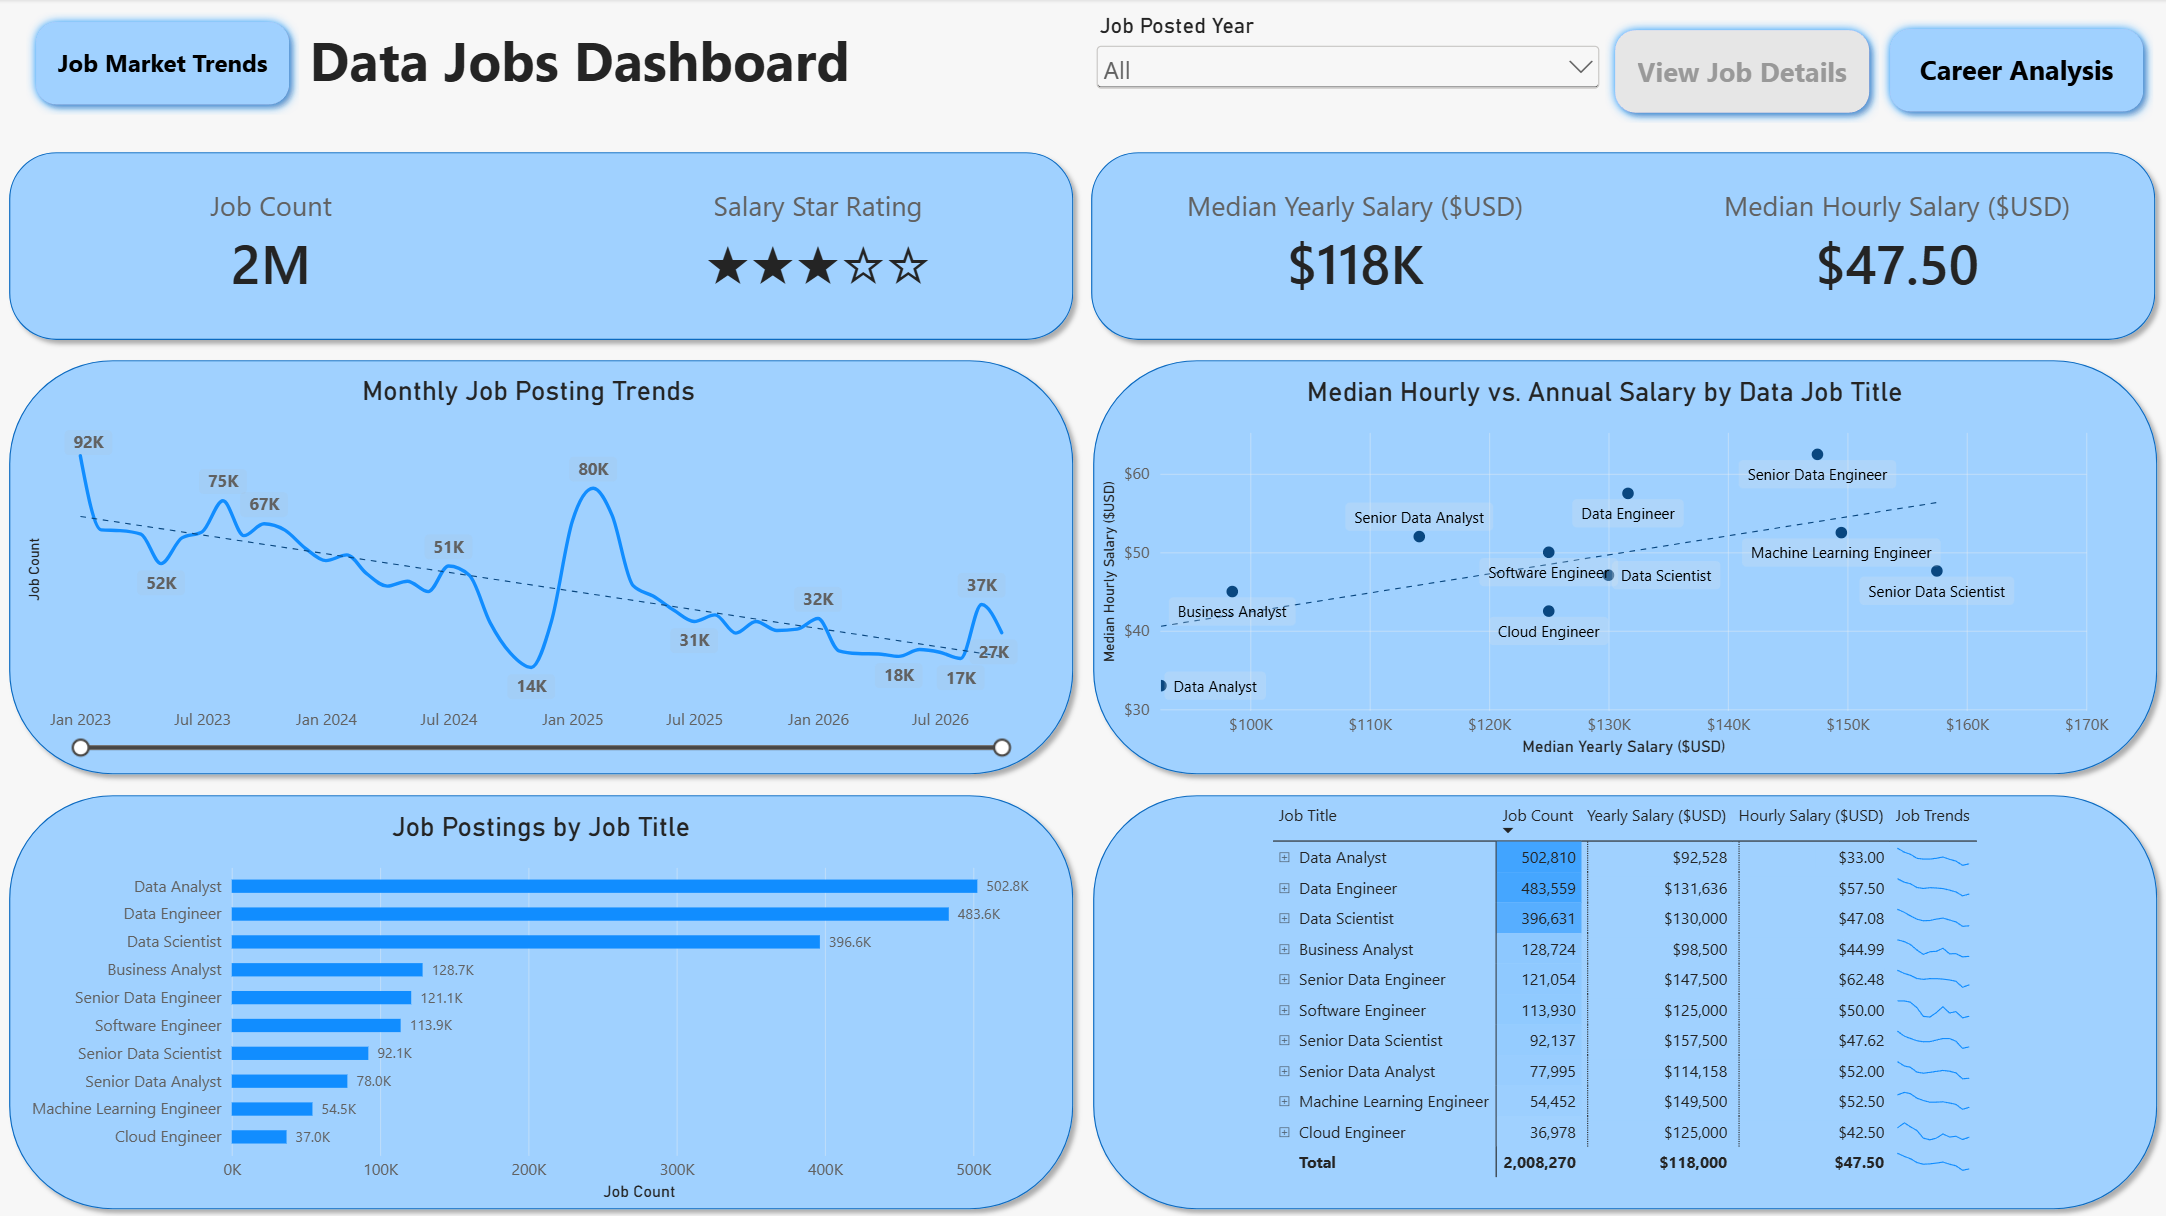

The dashboard page shown, as its layout file describes it:
{"tool":"powerbi","page":{"name":"Data Jobs Dashboard","canvas":[1920,1080],"ordinal":0},"visuals":[{"type":"group","id":"g1","title":"Background","box":[0,126.4,1920,953.5],"z":0},{"type":"shape","box":[0,126.4,960,184.2],"z":0,"group":"g1"},{"type":"textbox","box":[125.1,20.6,778.4,87.4],"z":1000},{"type":"shape","box":[958,126.4,960,184.2],"z":1000,"group":"g1"},{"type":"slicer","fields":{"Values":["job_postings_flat.job_title_short"]},"box":[966.7,12.1,455.4,110.5],"z":2000},{"type":"shape","box":[0,310.6,960,384.6],"z":2000,"group":"g1"},{"type":"cardVisual","fields":{"Data":["Median(job_postings_flat.salary_year_avg)"]},"box":[960.6,122.6,480,187.5],"z":3000},{"type":"shape","box":[960,310.6,960,384.6],"z":3000,"group":"g1"},{"type":"cardVisual","fields":{"Data":["Median(job_postings_flat.salary_hour_avg)"]},"box":[1440.6,122.6,480,187.5],"z":4000},{"type":"shape","box":[0,695.2,960,384.6],"z":4000,"group":"g1"},{"type":"cardVisual","fields":{"Data":["job_postings_flat.Salary Star Rating"]},"box":[485.5,122.6,480,187.5],"z":5000},{"type":"shape","box":[960,695.2,960,384.6],"z":5000,"group":"g1"},{"type":"cardVisual","fields":{"Data":["CountNonNull(job_postings_flat.job_title_short)"]},"box":[0.6,122.6,480,187.5],"z":6000},{"type":"lineChart","title":"Monthly Data Job Postings in 2024","fields":{"Category":["job_postings_flat.job_posted_date.Variation.Date Hierarchy.Year","job_postings_flat.job_posted_date.Variation.Date Hierarchy.Quarter","job_postings_flat.job_posted_date.Variation.Date Hierarchy.Month","job_postings_flat.job_posted_date.Variation.Date Hierarchy.Day"],"Y":["CountNonNull(job_postings_flat.job_title_short)"]},"box":[24,319.3,942.6,366.1],"z":7000},{"type":"barChart","title":"Job Postings by Job Title","fields":{"Category":["job_postings_flat.job_title_short"],"Y":["CountNonNull(job_postings_flat.job_title_short)"]},"box":[0,695.2,929.5,384.7],"z":8000},{"type":"scatterChart","title":"Median Hourly vs. Annual Salary by Data Job Title","fields":{"Series":["job_postings_flat.job_title_short"],"X":["Median(job_postings_flat.salary_year_avg)"],"Y":["Median(job_postings_flat.salary_hour_avg)"]},"box":[960,319.3,924,366.1],"z":9000},{"type":"pivotTable","fields":{"Rows":["job_postings_flat.job_title_short","job_postings_flat.job_posted_date.Variation.Date Hierarchy.Quarter"],"Values":["CountNonNull(job_postings_flat.job_title_short)","Median(job_postings_flat.salary_year_avg)","Median(job_postings_flat.salary_hour_avg)","SparklineData(CountNonNull(job_postings_flat.job_title_short)_[job_postings_flat.job_posted_date.Variation.Date Hierarch"]},"box":[1111.5,695.2,657.1,384.7],"z":10000},{"type":"actionButton","box":[1422.1,18.2,242.9,91.1],"z":11000},{"type":"actionButton","box":[1665,18,242,91],"z":12000}]}

Visuals, with their boxes in screenshot pixels (x1, y1, x2, y2), scaled from the page's 1920x1080 canvas onto the 2166x1216 screenshot:
"Background" group: left=0, top=142, right=2165, bottom=1215
shape: left=0, top=142, right=1083, bottom=350
textbox: left=141, top=23, right=1019, bottom=122
shape: left=1081, top=142, right=2164, bottom=350
slicer - job_postings_flat.job_title_short: left=1091, top=14, right=1604, bottom=138
shape: left=0, top=350, right=1083, bottom=783
cardVisual - Median(job_postings_flat.salary_year_avg): left=1084, top=138, right=1625, bottom=349
shape: left=1083, top=350, right=2165, bottom=783
cardVisual - Median(job_postings_flat.salary_hour_avg): left=1625, top=138, right=2165, bottom=349
shape: left=0, top=783, right=1083, bottom=1215
cardVisual - job_postings_flat.Salary Star Rating: left=548, top=138, right=1089, bottom=349
shape: left=1083, top=783, right=2165, bottom=1215
cardVisual - CountNonNull(job_postings_flat.job_title_short): left=1, top=138, right=542, bottom=349
"Monthly Data Job Postings in 2024" lineChart: left=27, top=360, right=1090, bottom=772
"Job Postings by Job Title" barChart: left=0, top=783, right=1049, bottom=1215
"Median Hourly vs. Annual Salary by Data Job Title" scatterChart: left=1083, top=360, right=2125, bottom=772
pivotTable - job_postings_flat.job_title_short x job_postings_flat.job_posted_date.Variation.Date Hierarchy.Quarter: left=1254, top=783, right=1995, bottom=1215
actionButton: left=1604, top=20, right=1878, bottom=123
actionButton: left=1878, top=20, right=2151, bottom=123
